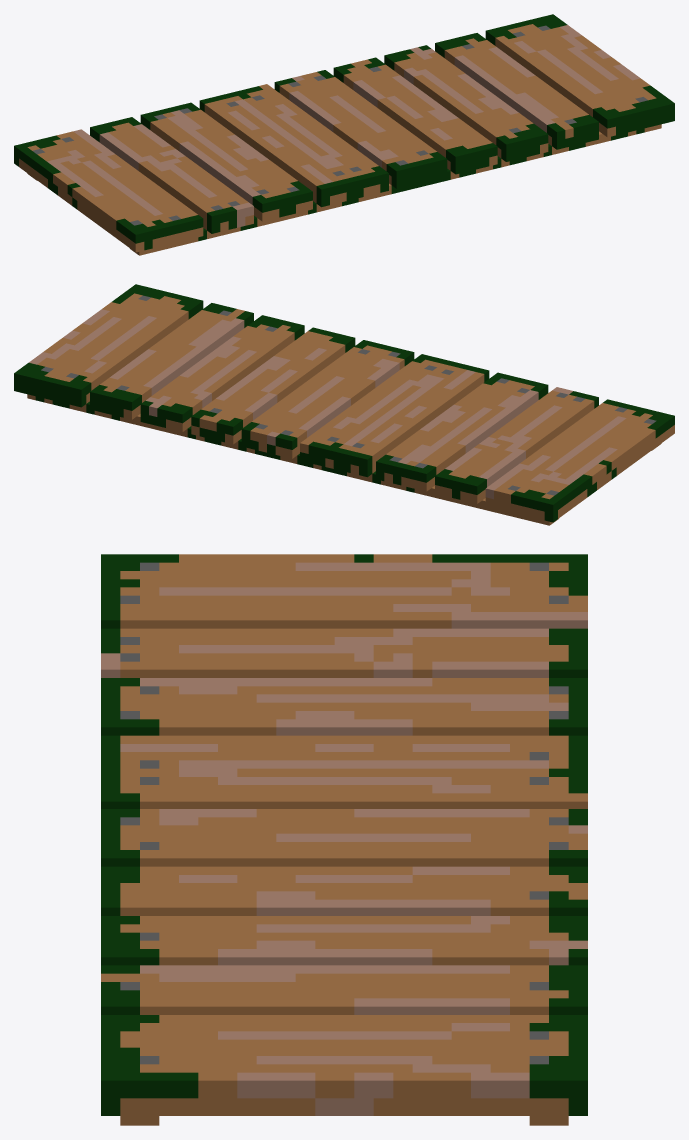
Rendered from g_board.fbx.
3 views of the same model, one above another, from view 1: azimuth 30°, elevation 25°; view 2: azimuth 150°, elevation 25°; view 3: azimuth 270°, elevation 25° (orthographic). The views are drawn at different scales.
Parts seen in each view (by area): view 1: board.001, board.002; view 2: board.001, board.002; view 3: board.001, board.002.
Part boxes in pixels (x1,y1,x2,y2): board.001: [274, 14, 674, 195]; board.002: [14, 84, 388, 255]; board.001: [14, 284, 414, 465]; board.002: [300, 354, 674, 525]; board.001: [101, 809, 587, 1125]; board.002: [101, 554, 587, 808].
Bounding box in the file's own units: 639 × 30 × 250.
